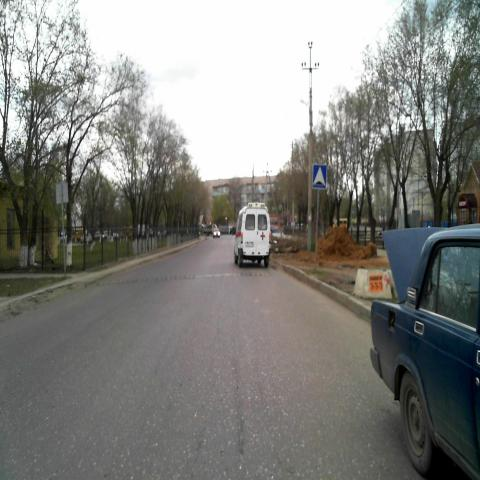5_20: (313, 163, 326, 189)
